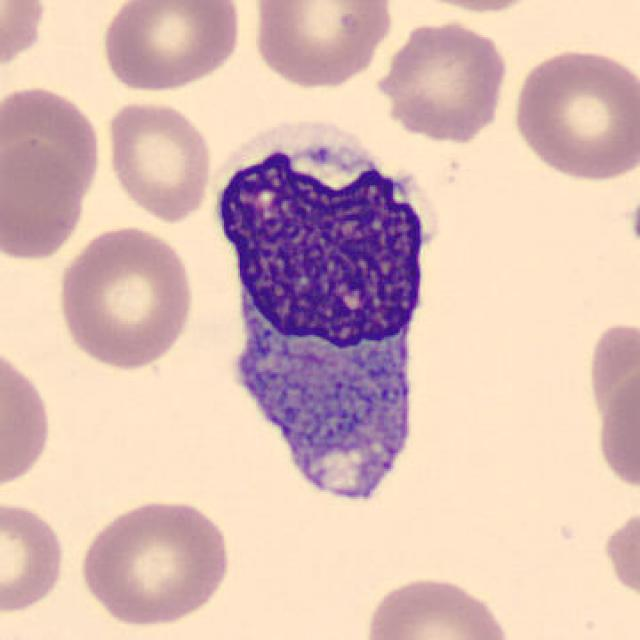Monocyte: (208, 108, 446, 530)
Platelets: (626, 198, 640, 245)
RBC: (53, 222, 199, 372), (74, 494, 234, 630), (372, 16, 512, 144), (508, 44, 636, 183), (103, 97, 217, 224), (96, 0, 245, 95), (0, 81, 105, 210), (249, 0, 396, 92), (2, 136, 89, 264), (359, 571, 516, 640), (0, 337, 55, 497), (0, 495, 69, 617), (583, 314, 640, 446), (590, 360, 640, 496), (599, 499, 640, 610), (0, 0, 52, 81), (393, 0, 553, 16)
